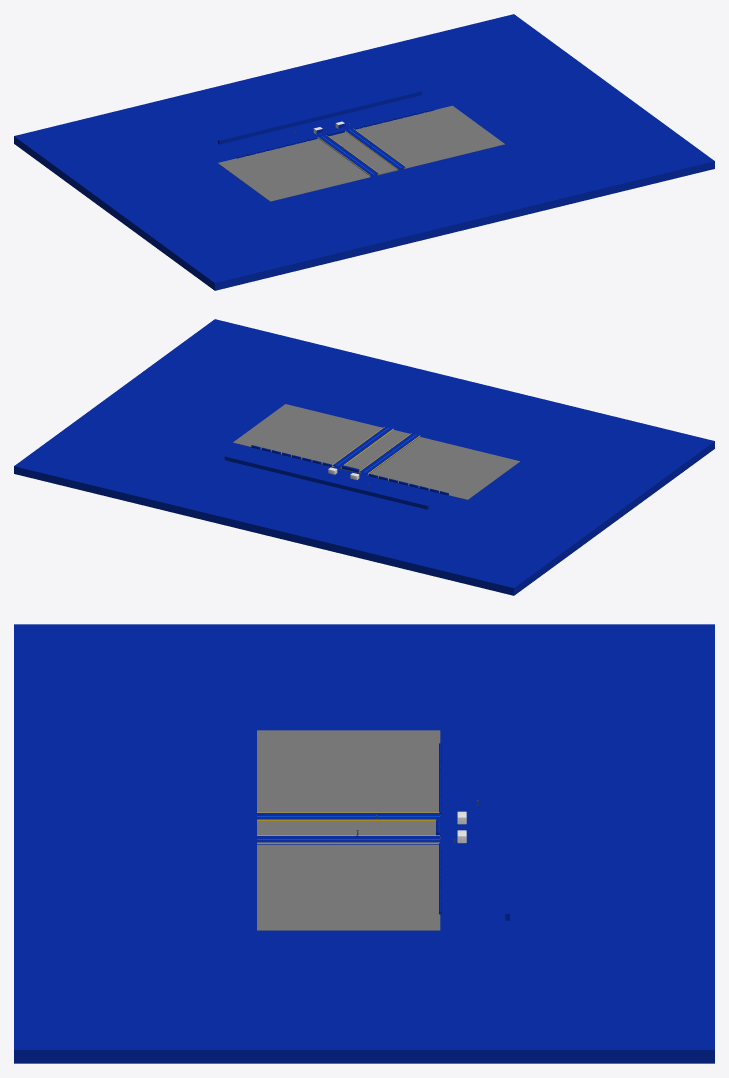
Rendered from Curling court FBX23.FBX.
3 renders of one model, top to bottom at view 1: azimuth 30°, elevation 25°; view 2: azimuth 150°, elevation 25°; view 3: azimuth 270°, elevation 25°, orthographic. The views are drawn at different scales.
Parts seen in each view (by area): view 1: Box034, Box005, Box004, Box009, Box001, ChamferBox002, ChamferBox009; view 2: Box034, Box005, Box004, Box009, Box001, ChamferBox009, ChamferBox002; view 3: Box034, Box004, Box005, Box001, ChamferBox002, ChamferBox009, Box009.
Boxes of the visible parts, x1,y1,x2,y2 form: Box034: (14,14,714,290); Box005: (218,138,370,201); Box004: (355,105,504,168); Box009: (218,90,422,144); Box001: (329,132,398,175); ChamferBox002: (345,128,405,169); ChamferBox009: (318,135,378,175); Box034: (14,319,714,595); Box005: (367,437,519,499); Box004: (233,404,382,466); Box009: (224,455,428,509); Box001: (339,429,409,473); ChamferBox009: (359,433,419,473); ChamferBox002: (332,427,392,467); Box034: (14,624,714,1063); Box004: (257,844,440,930); Box005: (257,730,440,815); Box001: (257,821,440,839); ChamferBox002: (257,836,439,842); ChamferBox009: (257,813,439,819); Box009: (505,741,509,920).
Bounding box in the file's own units: 1319 × 34.82 × 918.
